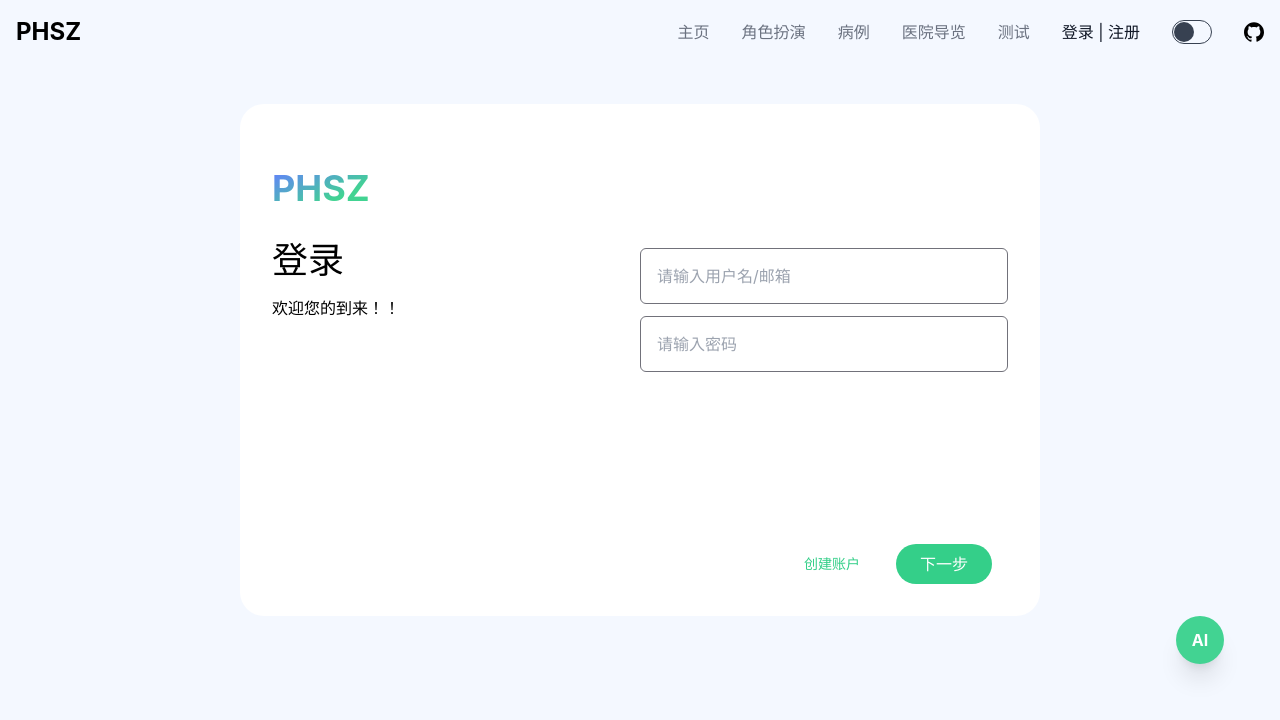
it: Login Test › No Password
Check: the link "登录 | 注册" is shown, box [1062,22,1140,42]
In the field with placeholder "请输入用户名/邮箱": (824, 276) [640,248,1008,304], type "admin"
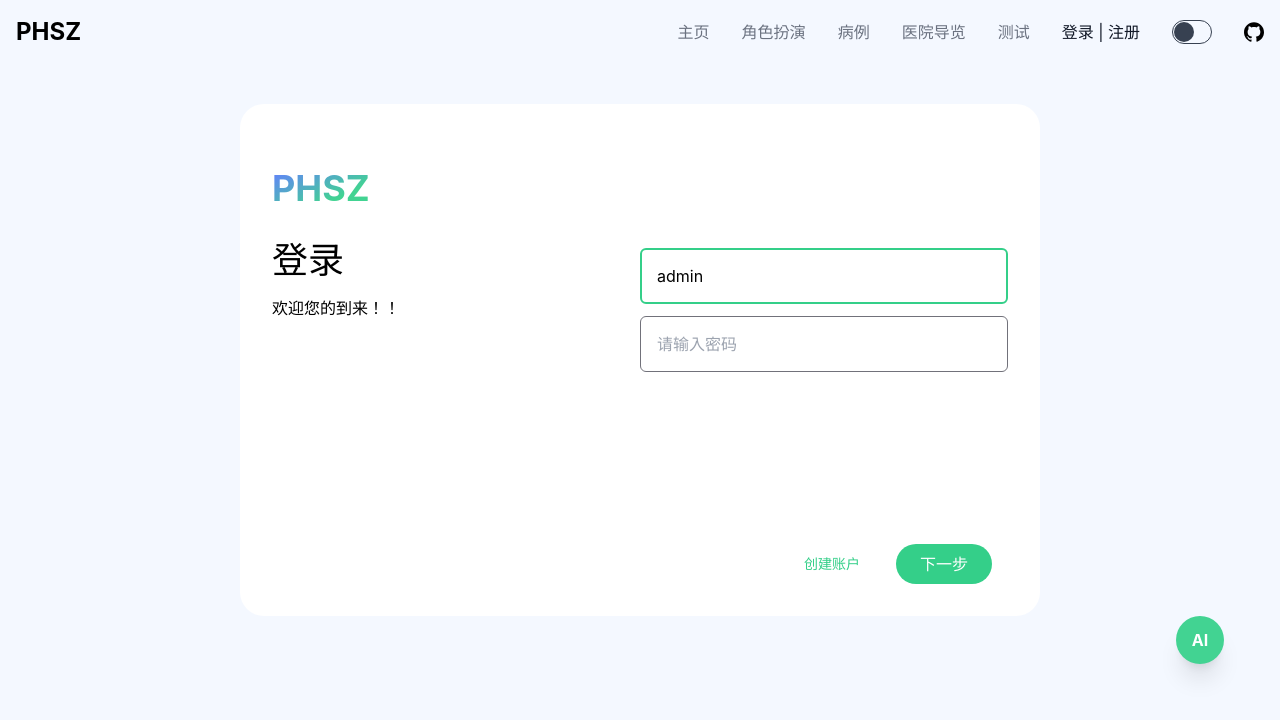
Click the button "下一步": (944, 564) [896,544,992,584]
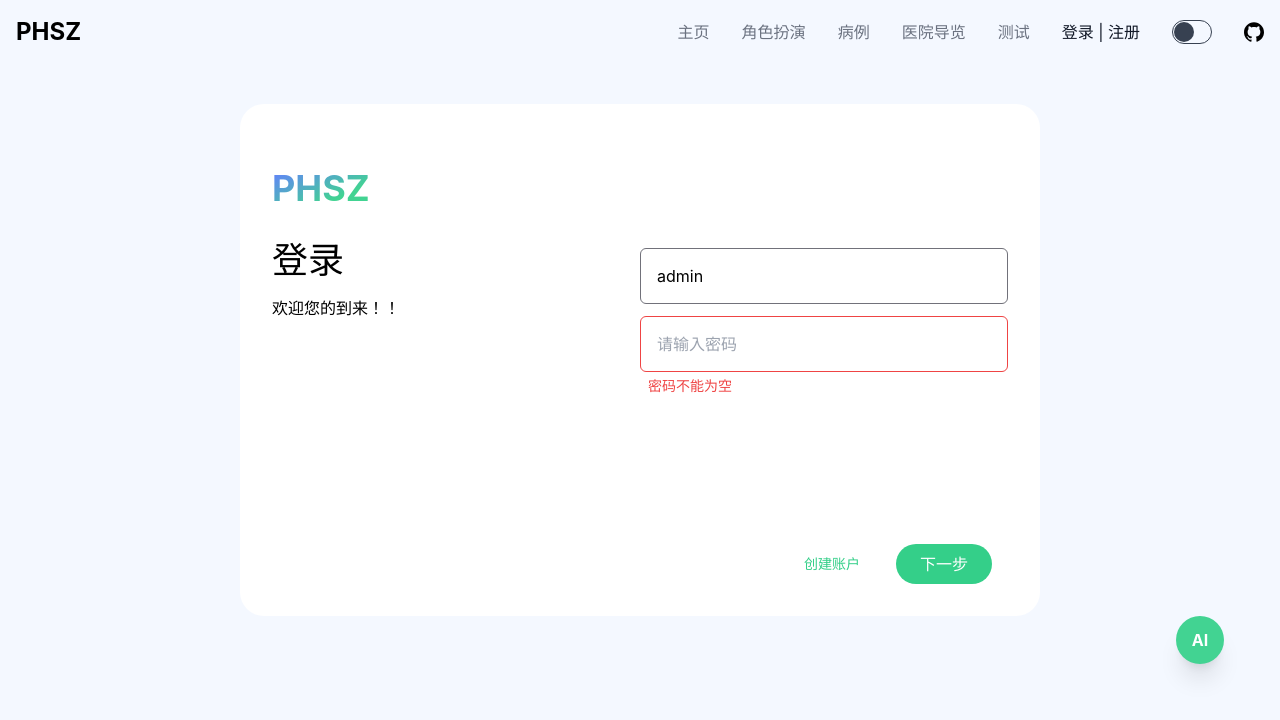
Check: the text "密码不能为空" is shown, box [648,377,732,394]
